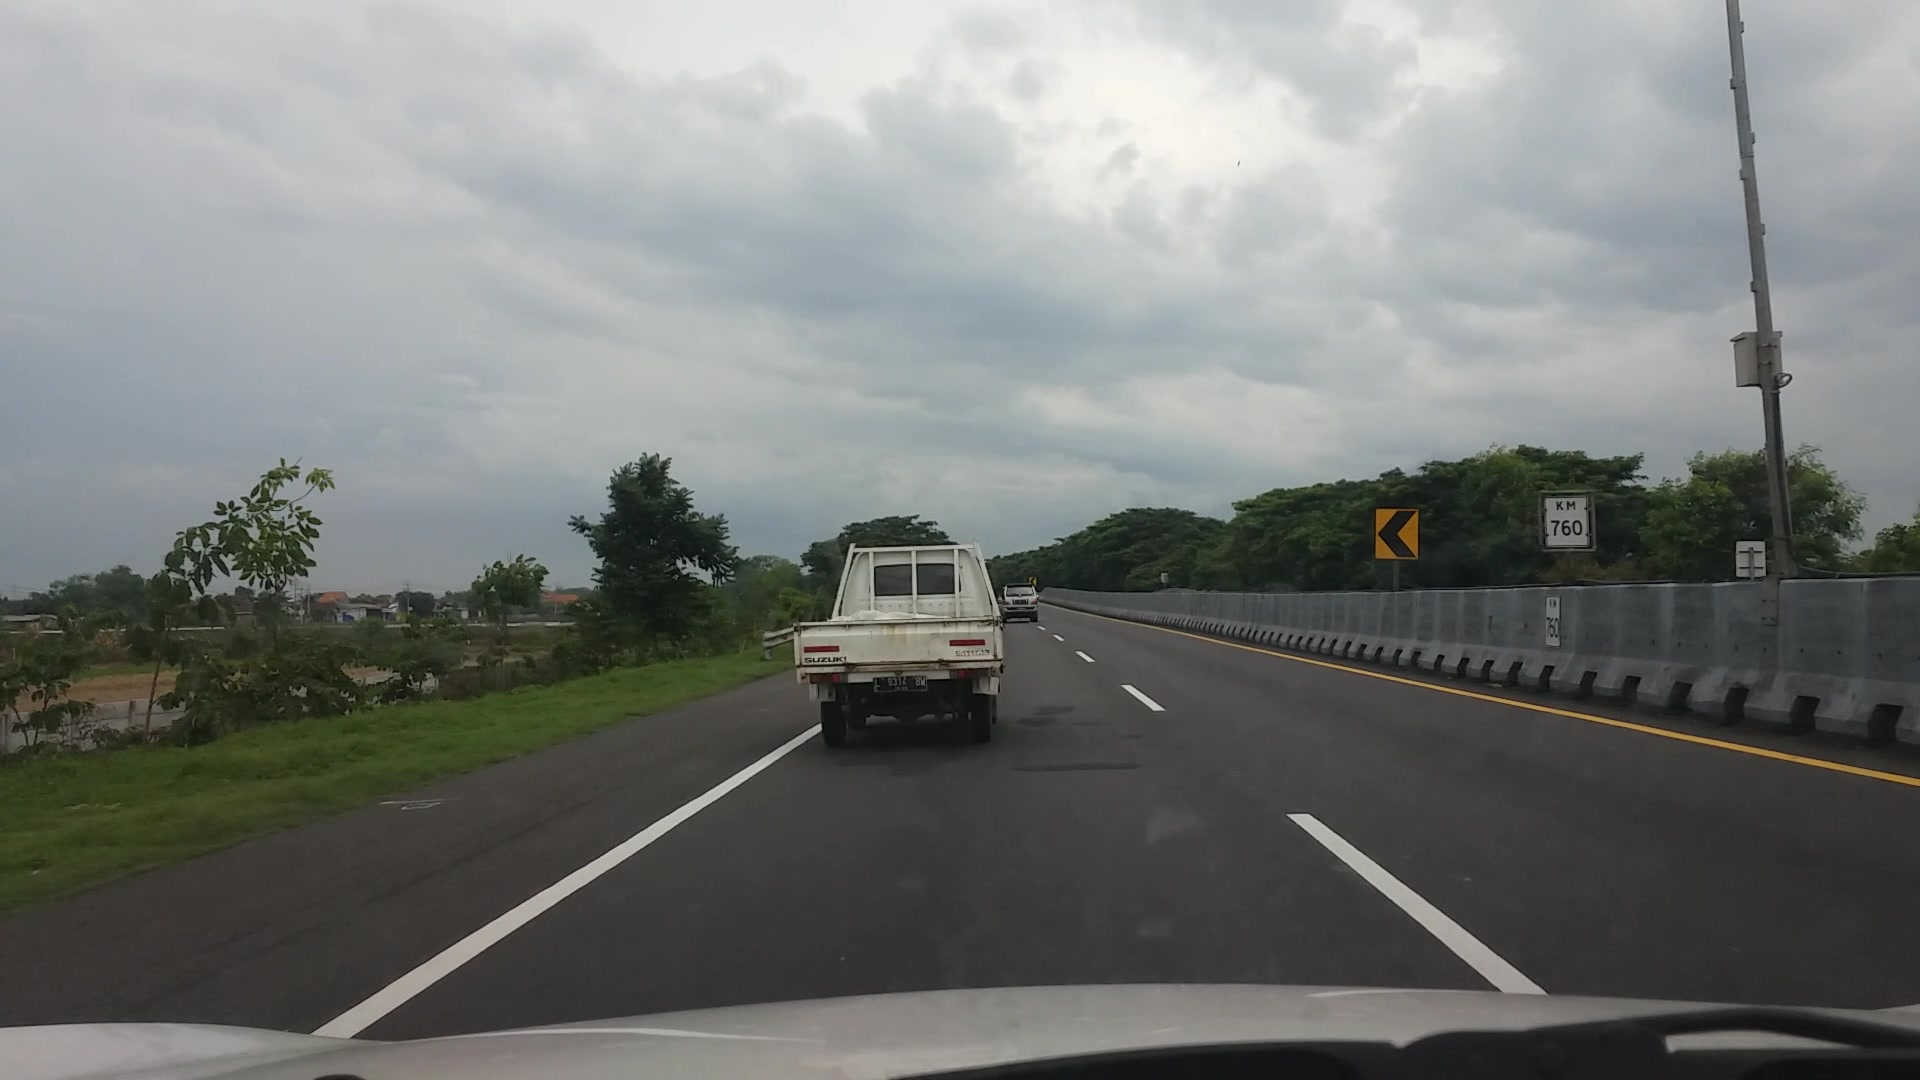plate_positive: (873, 676, 926, 694)
